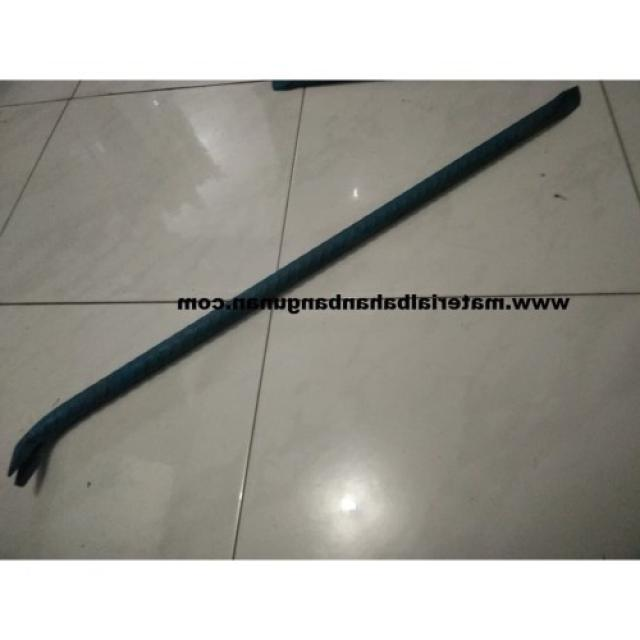Linggis: (9, 82, 583, 488)
